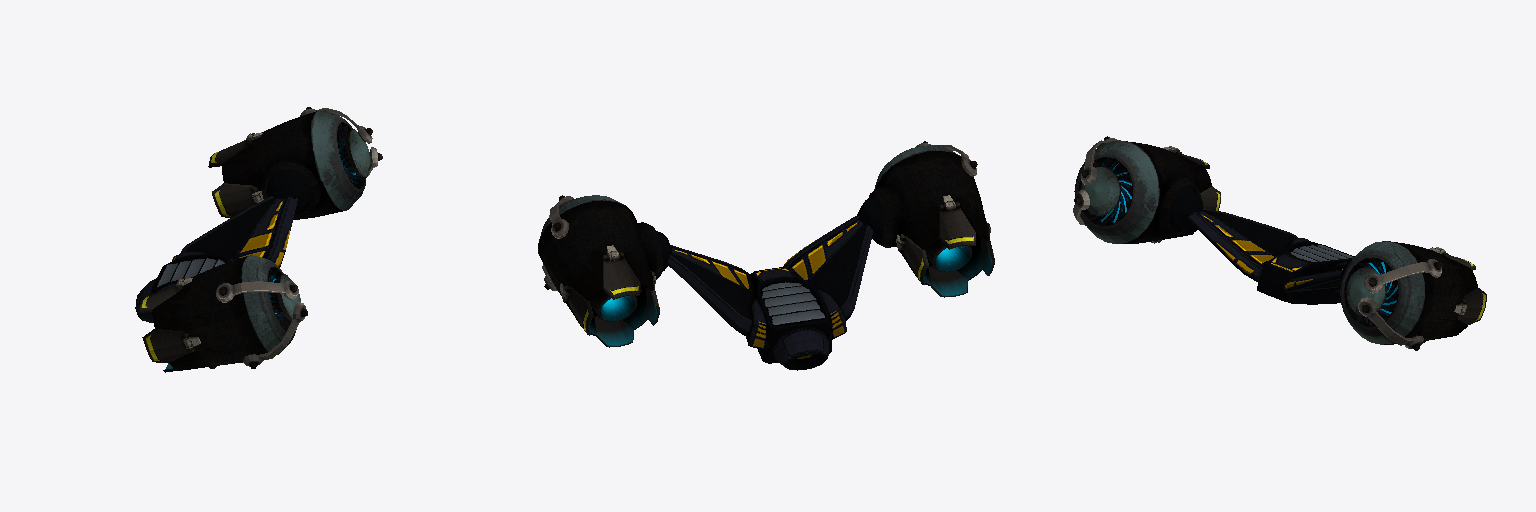
3 views of the same model, side by side, from view 1: azimuth 30°, elevation 25°; view 2: azimuth 150°, elevation 25°; view 3: azimuth 270°, elevation 25° (orthographic).
Parts seen in each view (by area): view 1: GetpackThruster1; view 2: GetpackThruster1; view 3: GetpackThruster1.
Boxes of the visible parts, x1,y1,x2,y2 form: GetpackThruster1: [135, 107, 382, 372]; GetpackThruster1: [538, 141, 994, 370]; GetpackThruster1: [1073, 136, 1486, 350].
Size of the model in its own units: 7.02 by 2.85 by 7.45.
Materials: 2 (2 with a texture image).